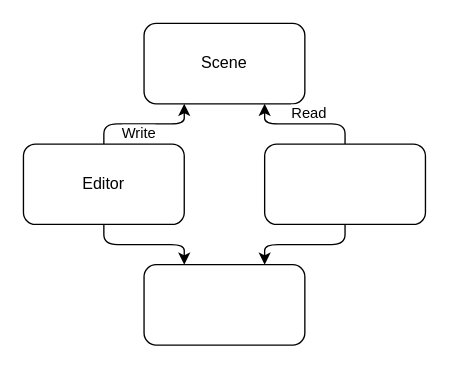
Image size: 449x369. Some labels were removed from this diagram. The centre of each missing label's shape, as x and y in pixels:
"Engine" goes at (224,304).
"Runtime" goes at (344,183).
